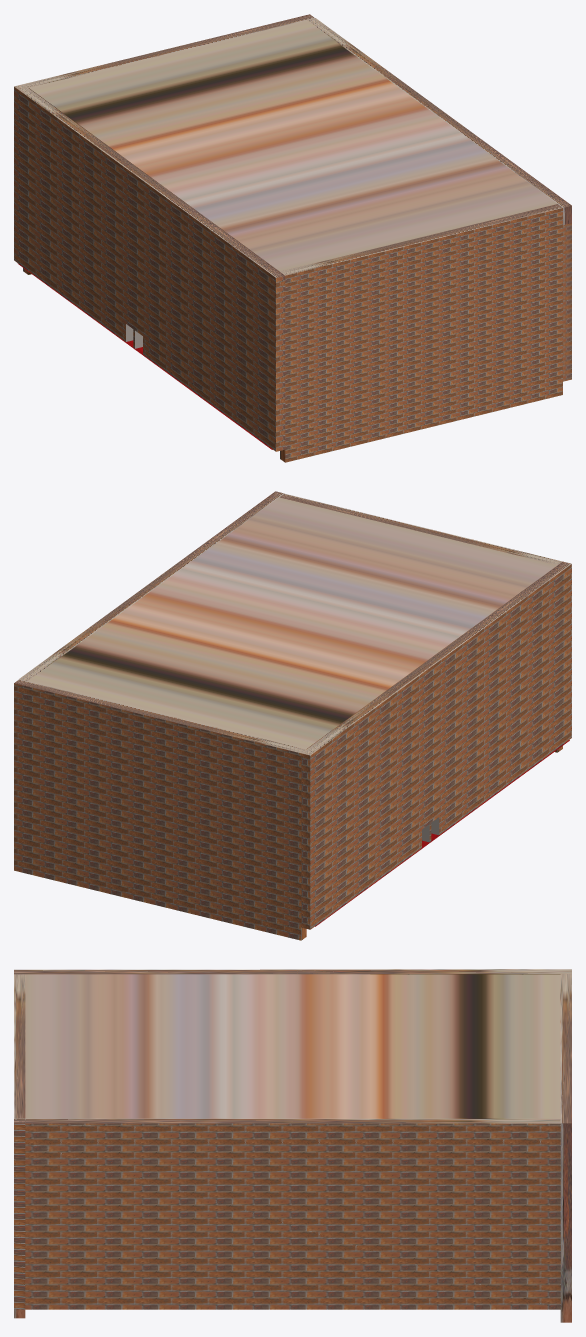
File: Library.fbx
3 renders of one model, top to bottom at view 1: azimuth 30°, elevation 25°; view 2: azimuth 150°, elevation 25°; view 3: azimuth 270°, elevation 25°, orthographic. The views are drawn at different scales.
Visible parts, largest first — view 1: Back and Roof, Right Wall, Front Wall, Left Wall; view 2: Back and Roof, Left Wall, Front Wall, Right Wall; view 3: Back and Roof, Left Wall, Front Wall, Right Wall.
Part boxes in pixels (x1=…): Back and Roof: x1=29, y1=18, x2=571, y2=381; Right Wall: x1=280, y1=204, x2=562, y2=462; Front Wall: x1=14, y1=84, x2=285, y2=451; Left Wall: x1=23, y1=14, x2=314, y2=274; Back and Roof: x1=19, y1=491, x2=557, y2=749; Left Wall: x1=14, y1=679, x2=306, y2=940; Front Wall: x1=301, y1=561, x2=571, y2=929; Right Wall: x1=280, y1=493, x2=562, y2=752; Back and Roof: x1=14, y1=974, x2=560, y2=1309; Left Wall: x1=560, y1=974, x2=571, y2=1322; Front Wall: x1=14, y1=969, x2=571, y2=974; Right Wall: x1=14, y1=974, x2=25, y2=1318.
Bounding box in the file's own units: 6503 × 3915 × 9917.
6 materials, 6 textured.
